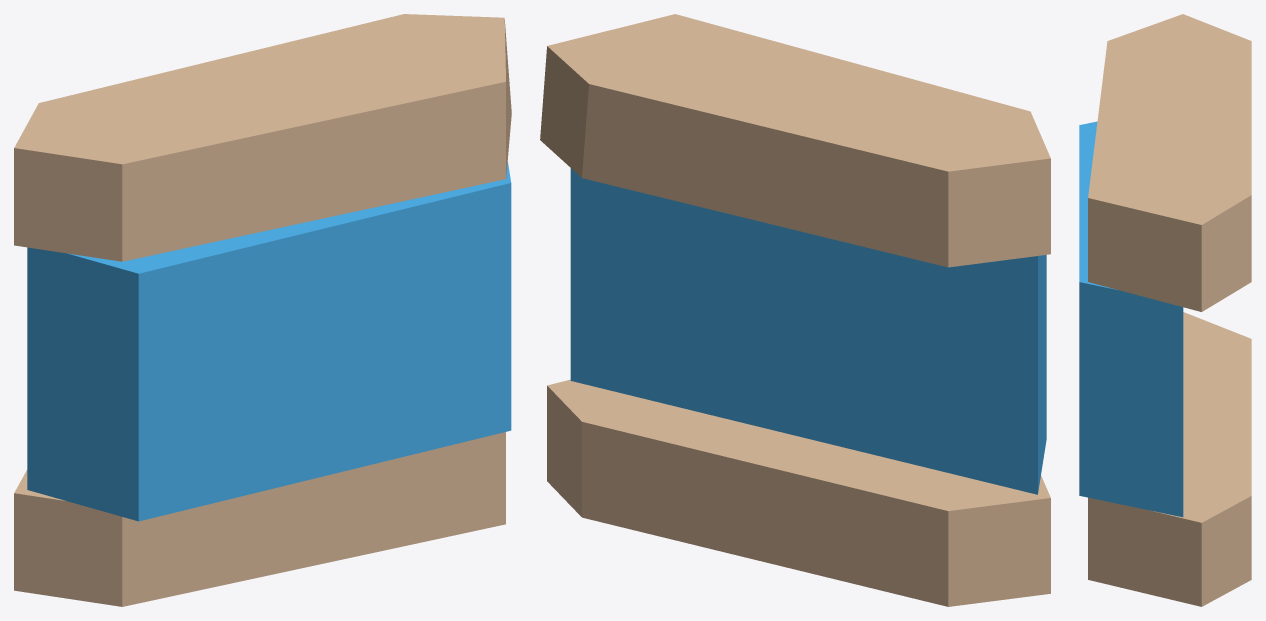
3 renders of one model, left to right at view 1: azimuth 30°, elevation 25°; view 2: azimuth 150°, elevation 25°; view 3: azimuth 270°, elevation 25°, orthographic. The views are drawn at different scales.
Parts seen in each view (by area): view 1: Chain_Cube.001, Body_Cube.002; view 2: Chain_Cube.001, Body_Cube.002; view 3: Chain_Cube.001, Body_Cube.002.
Boxes of the visible parts, bbox=[...] form: Chain_Cube.001: bbox=[14, 14, 511, 606]; Body_Cube.002: bbox=[27, 161, 511, 521]; Chain_Cube.001: bbox=[540, 14, 1050, 606]; Body_Cube.002: bbox=[570, 168, 1046, 494]; Chain_Cube.001: bbox=[1088, 14, 1251, 606]; Body_Cube.002: bbox=[1079, 121, 1183, 517].
Size of the model in its own units: 1.8 by 1.5 by 0.6129.
